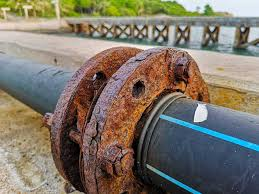rust: (73, 62, 119, 128), (143, 51, 203, 89), (86, 146, 133, 190)
